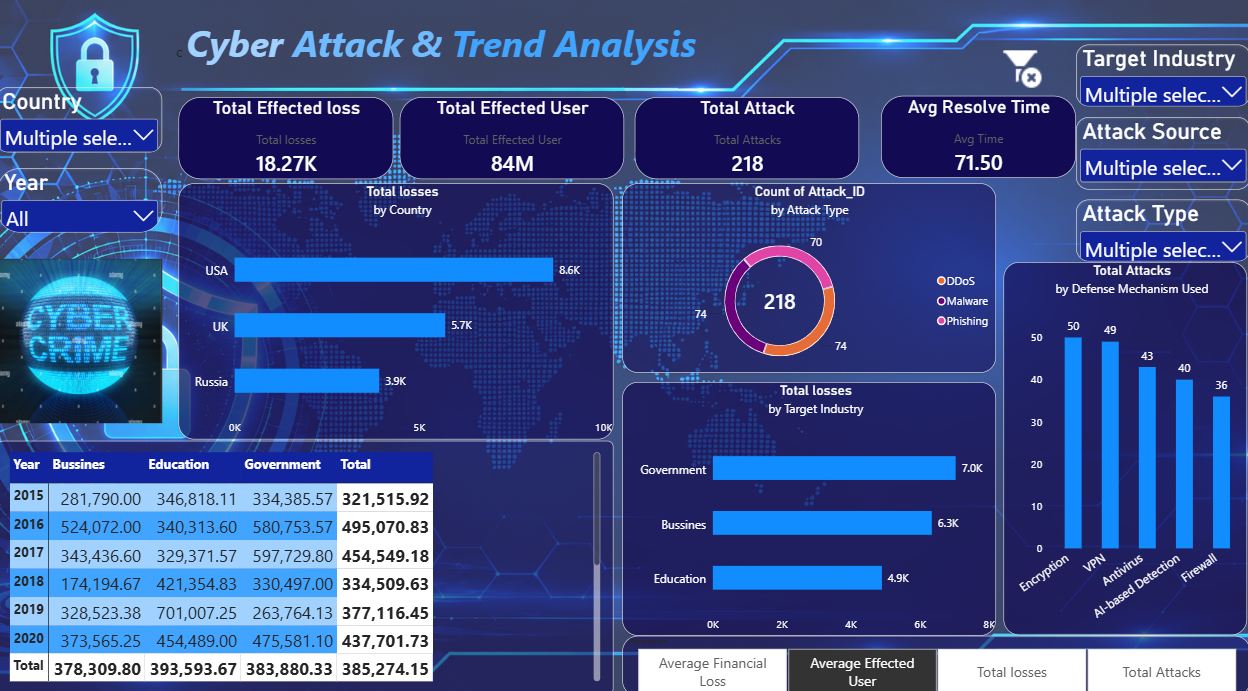

Layout of this report page (visuals, bound fields, positions):
{"tool":"powerbi","page":{"name":"Page 1","canvas":[1672,1000],"ordinal":0},"visuals":[{"type":"slicer","fields":{"Values":["Live_Telemetry_Stream.Country"]},"box":[0,147.2,221.7,87.2],"z":7},{"type":"slicer","fields":{"Values":["Attack_Directory.Attack Type"]},"box":[1439.4,296.6,233,82.5],"z":8},{"type":"slicer","fields":{"Values":["Live_Telemetry_Stream.Target Industry"]},"box":[1439.3,89.6,233,82.5],"z":9},{"type":"slicer","fields":{"Values":["Live_Telemetry_Stream.Attack Source"]},"box":[1439.4,187.2,233,96.8],"z":11},{"type":"slicer","fields":{"Values":["Live_Telemetry_Stream.Year"]},"box":[1.8,254.4,219.9,85.4],"z":12},{"type":"cardVisual","title":"Total Effected loss","fields":{"Data":["Live_Telemetry_Stream.Total losses"]},"box":[243.5,159.9,286.8,109.3],"z":13},{"type":"cardVisual","title":"Total Effected User","fields":{"Data":["Live_Telemetry_Stream.Total Effected User"]},"box":[537.9,159.9,299.3,109.3],"z":14},{"type":"cardVisual","title":"Total Attack","fields":{"Data":["Live_Telemetry_Stream.Total Attacks"]},"box":[852.4,159.9,299.3,109.3],"z":15},{"type":"cardVisual","title":"Avg Resolve Time","fields":{"Data":["Live_Telemetry_Stream.Avg Time"]},"box":[1179.6,157.5,259.9,109.3],"z":16},{"type":"barChart","fields":{"Category":["Live_Telemetry_Stream.Country"],"Y":["Live_Telemetry_Stream.Total losses"]},"box":[243.5,274.4,579.7,341.7],"z":17},{"type":"donutChart","fields":{"Category":["Attack_Directory.Attack Type"],"Y":["CountNonNull(Live_Telemetry_Stream.Attack_ID)"]},"box":[835.3,274.2,498.3,252.7],"z":18},{"type":"pivotTable","fields":{"Columns":["Live_Telemetry_Stream.Target Industry"],"Rows":["Live_Telemetry_Stream.Year"],"Values":["cybersecuirity_dataset.Average Financial Loss"]},"box":[1.8,617.9,821.5,338],"z":19},{"type":"columnChart","fields":{"Category":["Live_Telemetry_Stream.Defense Mechanism Used"],"Y":["Live_Telemetry_Stream.Total Attacks"]},"box":[1343.8,380.4,325.1,497.7],"z":21},{"type":"barChart","fields":{"Category":["Live_Telemetry_Stream.Target Industry"],"Y":["Live_Telemetry_Stream.Total losses"]},"box":[835.3,539.5,498.3,338.8],"z":22},{"type":"slicer","fields":{"Values":["Parameter.Parameter"]},"box":[834.5,878,837.8,80.4],"z":23},{"type":"textbox","box":[240.2,55.6,749.2,68.1],"z":24},{"type":"image","box":[1310.3,89.6,111.1,57.4],"z":25},{"type":"image","box":[1.8,352.6,219.9,263.5],"z":26}]}

Visuals, with their boxes on the page's 1672x1000 design canvas (x1, y1, x2, y2). These are canvas units, not pixel positions in the 1248x691 screenshot, which may show the page scaled, cropped or inside an application window:
slicer - Live_Telemetry_Stream.Country: [x1=0, y1=147, x2=222, y2=234]
slicer - Attack_Directory.Attack Type: [x1=1439, y1=297, x2=1672, y2=379]
slicer - Live_Telemetry_Stream.Target Industry: [x1=1439, y1=90, x2=1672, y2=172]
slicer - Live_Telemetry_Stream.Attack Source: [x1=1439, y1=187, x2=1672, y2=284]
slicer - Live_Telemetry_Stream.Year: [x1=2, y1=254, x2=222, y2=340]
"Total Effected loss" cardVisual: [x1=244, y1=160, x2=530, y2=269]
"Total Effected User" cardVisual: [x1=538, y1=160, x2=837, y2=269]
"Total Attack" cardVisual: [x1=852, y1=160, x2=1152, y2=269]
"Avg Resolve Time" cardVisual: [x1=1180, y1=158, x2=1440, y2=267]
barChart - Live_Telemetry_Stream.Country x Live_Telemetry_Stream.Total losses: [x1=244, y1=274, x2=823, y2=616]
donutChart - Attack_Directory.Attack Type x CountNonNull(Live_Telemetry_Stream.Attack_ID): [x1=835, y1=274, x2=1334, y2=527]
pivotTable - Live_Telemetry_Stream.Target Industry x Live_Telemetry_Stream.Year: [x1=2, y1=618, x2=823, y2=956]
columnChart - Live_Telemetry_Stream.Defense Mechanism Used x Live_Telemetry_Stream.Total Attacks: [x1=1344, y1=380, x2=1669, y2=878]
barChart - Live_Telemetry_Stream.Target Industry x Live_Telemetry_Stream.Total losses: [x1=835, y1=540, x2=1334, y2=878]
slicer - Parameter.Parameter: [x1=834, y1=878, x2=1672, y2=958]
textbox: [x1=240, y1=56, x2=989, y2=124]
image: [x1=1310, y1=90, x2=1421, y2=147]
image: [x1=2, y1=353, x2=222, y2=616]
